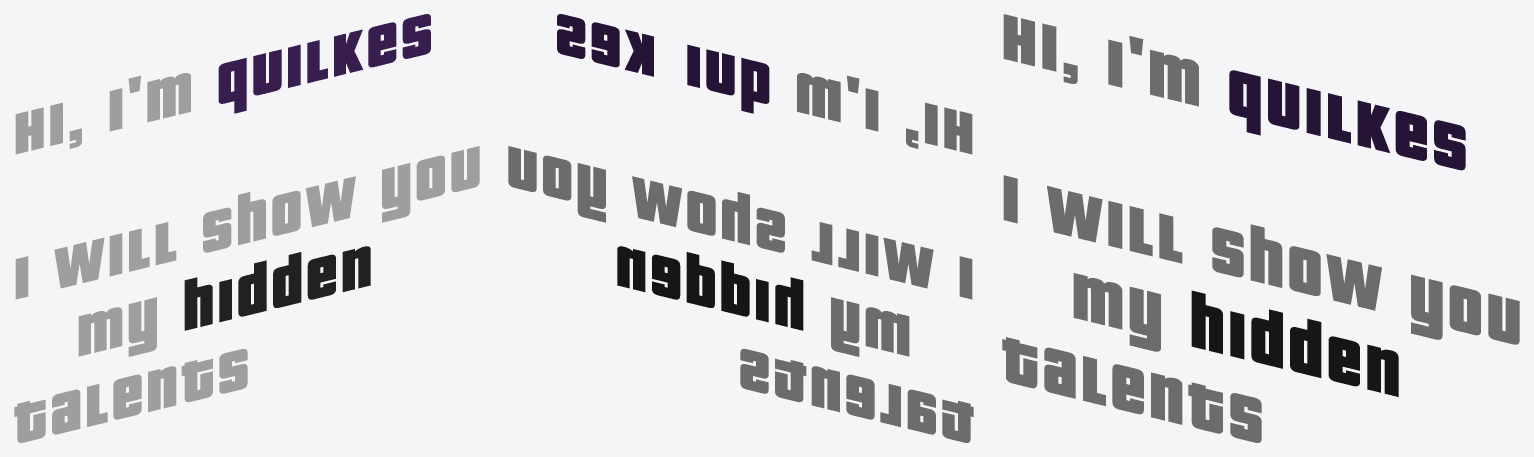
The model's file is Greeting_Text.glb.
3 views of the same model, side by side, from view 1: azimuth 30°, elevation 25°; view 2: azimuth 150°, elevation 25°; view 3: azimuth 330°, elevation 25° (orthographic). The views are drawn at different scales.
Visible parts, largest first — view 1: others, quilkes, hidden; view 2: others, hidden, quilkes; view 3: others, quilkes, hidden.
Boxes of the visible parts, bbox=[...] form: others: bbox=[14, 73, 479, 442]; quilkes: bbox=[218, 14, 430, 113]; hidden: bbox=[184, 246, 370, 330]; others: bbox=[508, 73, 973, 442]; hidden: bbox=[617, 246, 803, 330]; quilkes: bbox=[557, 14, 769, 113]; others: bbox=[1002, 14, 1519, 442]; quilkes: bbox=[1229, 70, 1465, 170]; hidden: bbox=[1191, 290, 1398, 396].
Size of the model in its own units: 6.71 by 4.67 by 1.03e-15.
